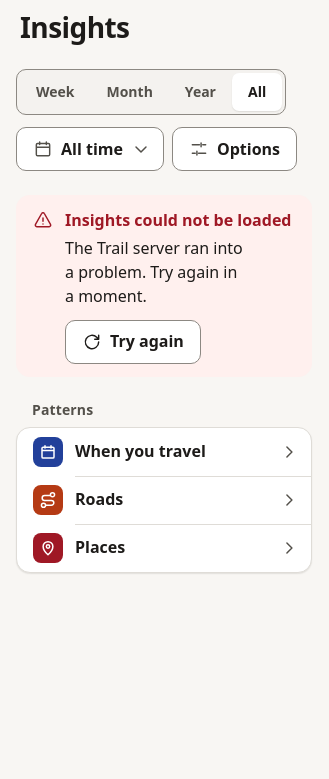
the summary › asks for the summary again when it fails
Expected: the text "Insights could not be loaded" is shown, [65,208,295,232]
Click the button "Try again" at (133, 342), box [65,320,201,364]
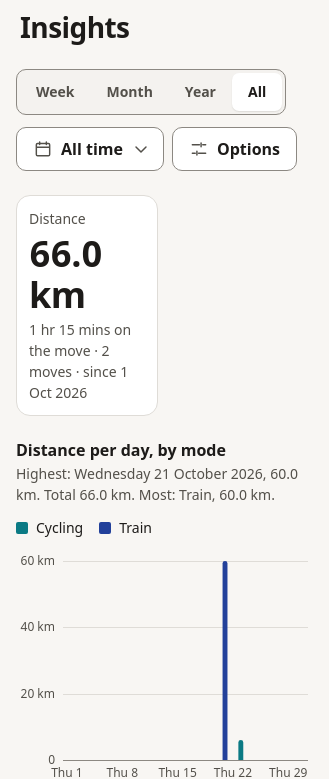
Now the text "66.0 km" is shown, box [29,229,102,319]
